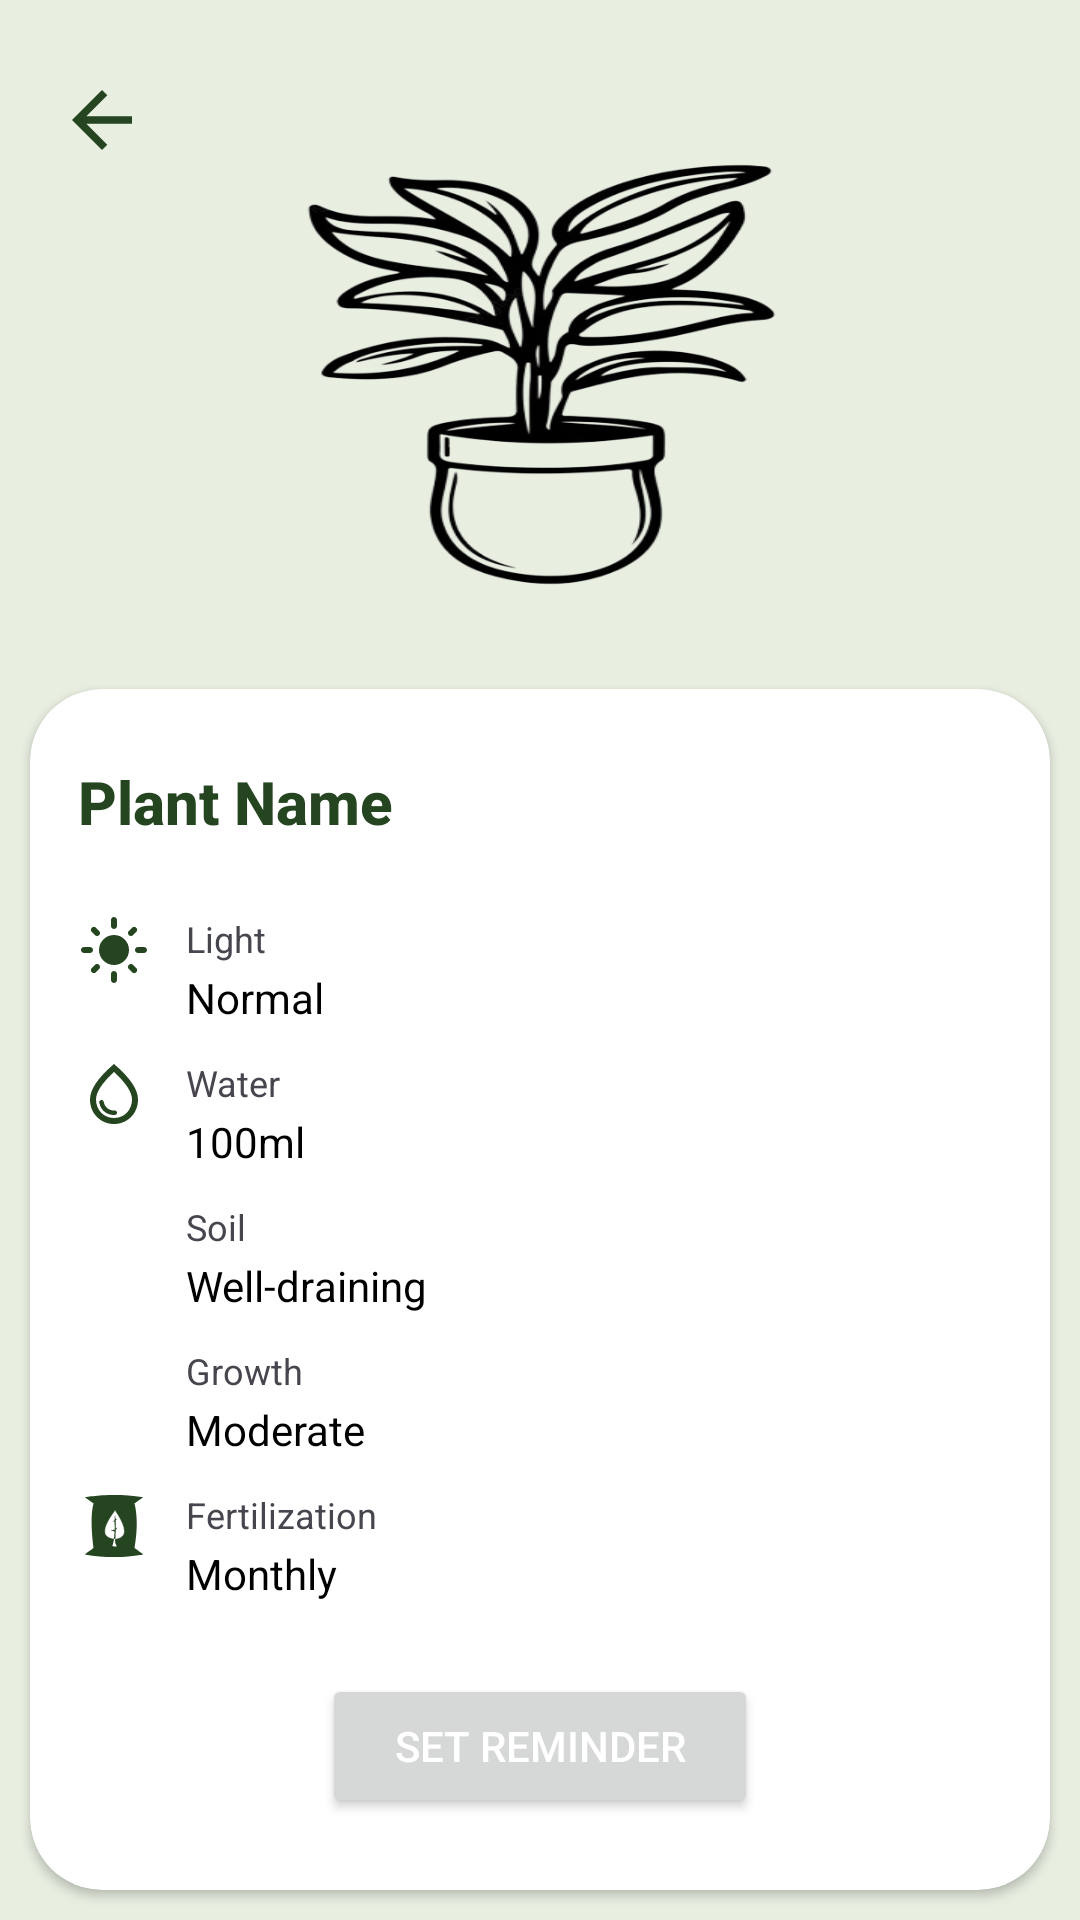

Point at icon controls on the screen. Image size 1080*1920, points as (x,y).
Back: (102,120)
